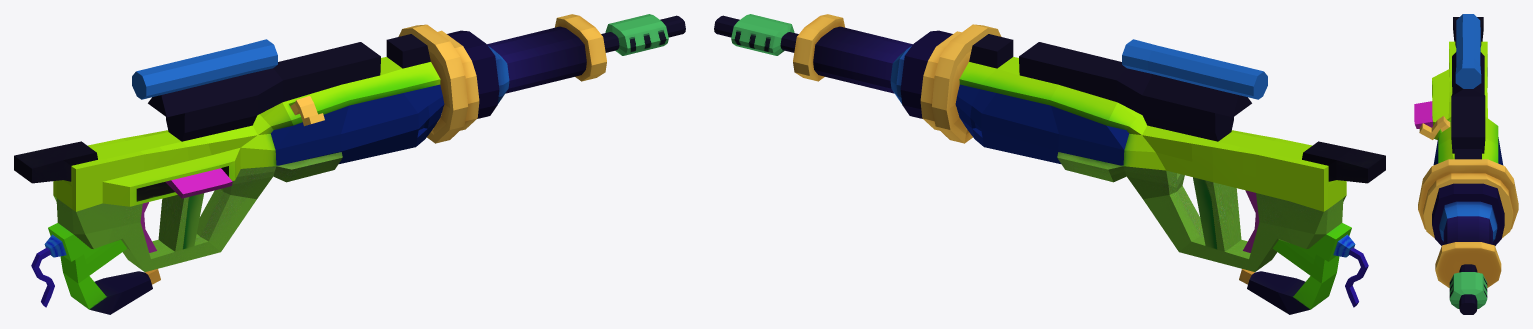
File: ArcadeGun_v2.fbx
The picture shows the model from 3 angles, left to right: view 1: azimuth 30°, elevation 25°; view 2: azimuth 150°, elevation 25°; view 3: azimuth 270°, elevation 25°; orthographic projection. The views are drawn at different scales.
Visible parts, largest first — view 1: ArcadeGun, Clip; view 2: ArcadeGun, Clip; view 3: ArcadeGun, Clip.
Part boxes in pixels (left/top/right/bottom): ArcadeGun: left=14, top=14, right=685, bottom=314; Clip: left=270, top=84, right=444, bottom=165; ArcadeGun: left=714, top=14, right=1385, bottom=314; Clip: left=955, top=84, right=1129, bottom=165; ArcadeGun: left=1414, top=14, right=1518, bottom=314; Clip: left=1433, top=137, right=1503, bottom=165.
Size of the model in its own units: 444 by 145 by 71.8.
